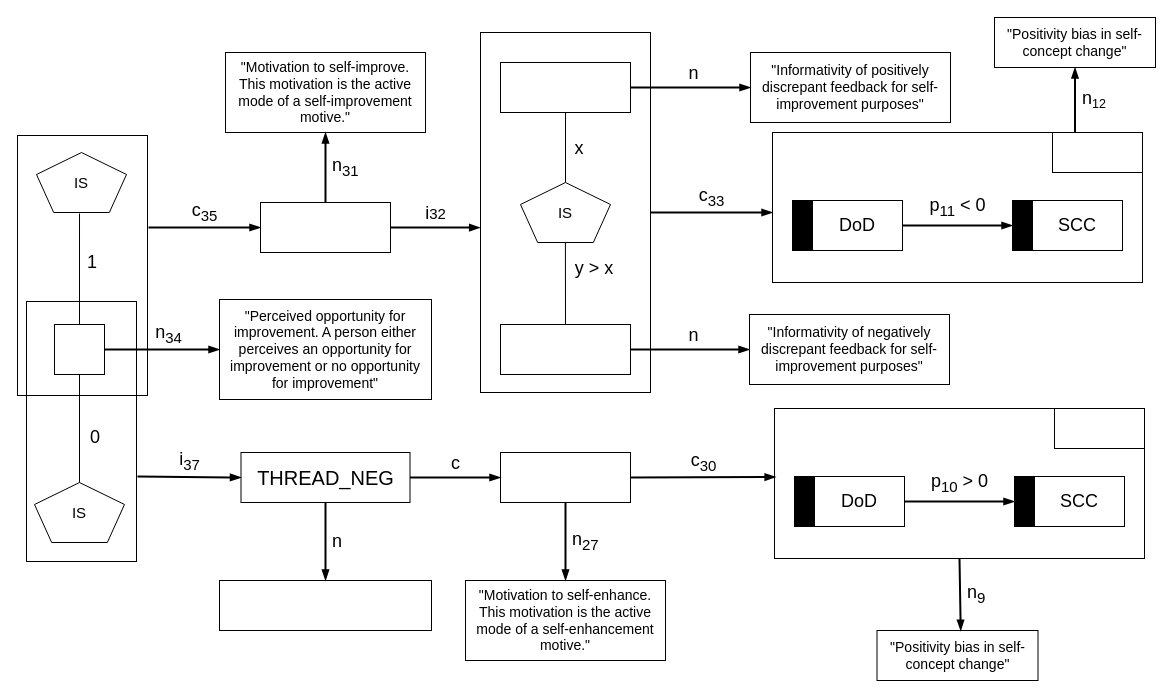
Image size: 1173x698. Some labels were removed from this diagram. Here are the shapes that lost their labels. From the top down, the box of each, then its label:
(500, 62, 630, 112): INFO_POS
(1052, 132, 1142, 172): NB
(260, 202, 390, 252): MOT_IMP
(54, 324, 104, 374): OFI
(500, 324, 630, 374): INFO_NEG
(1054, 408, 1144, 448): PB
(500, 452, 630, 502): MOT_ENH
(218, 580, 432, 630): "Perceived thread from negative feedback"
